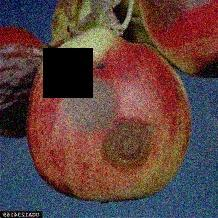rotten apple: (29, 26, 193, 203), (0, 23, 51, 139), (147, 0, 218, 80)
